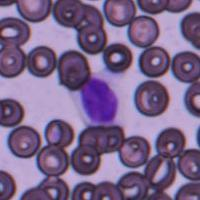L: (75, 72, 122, 127)
